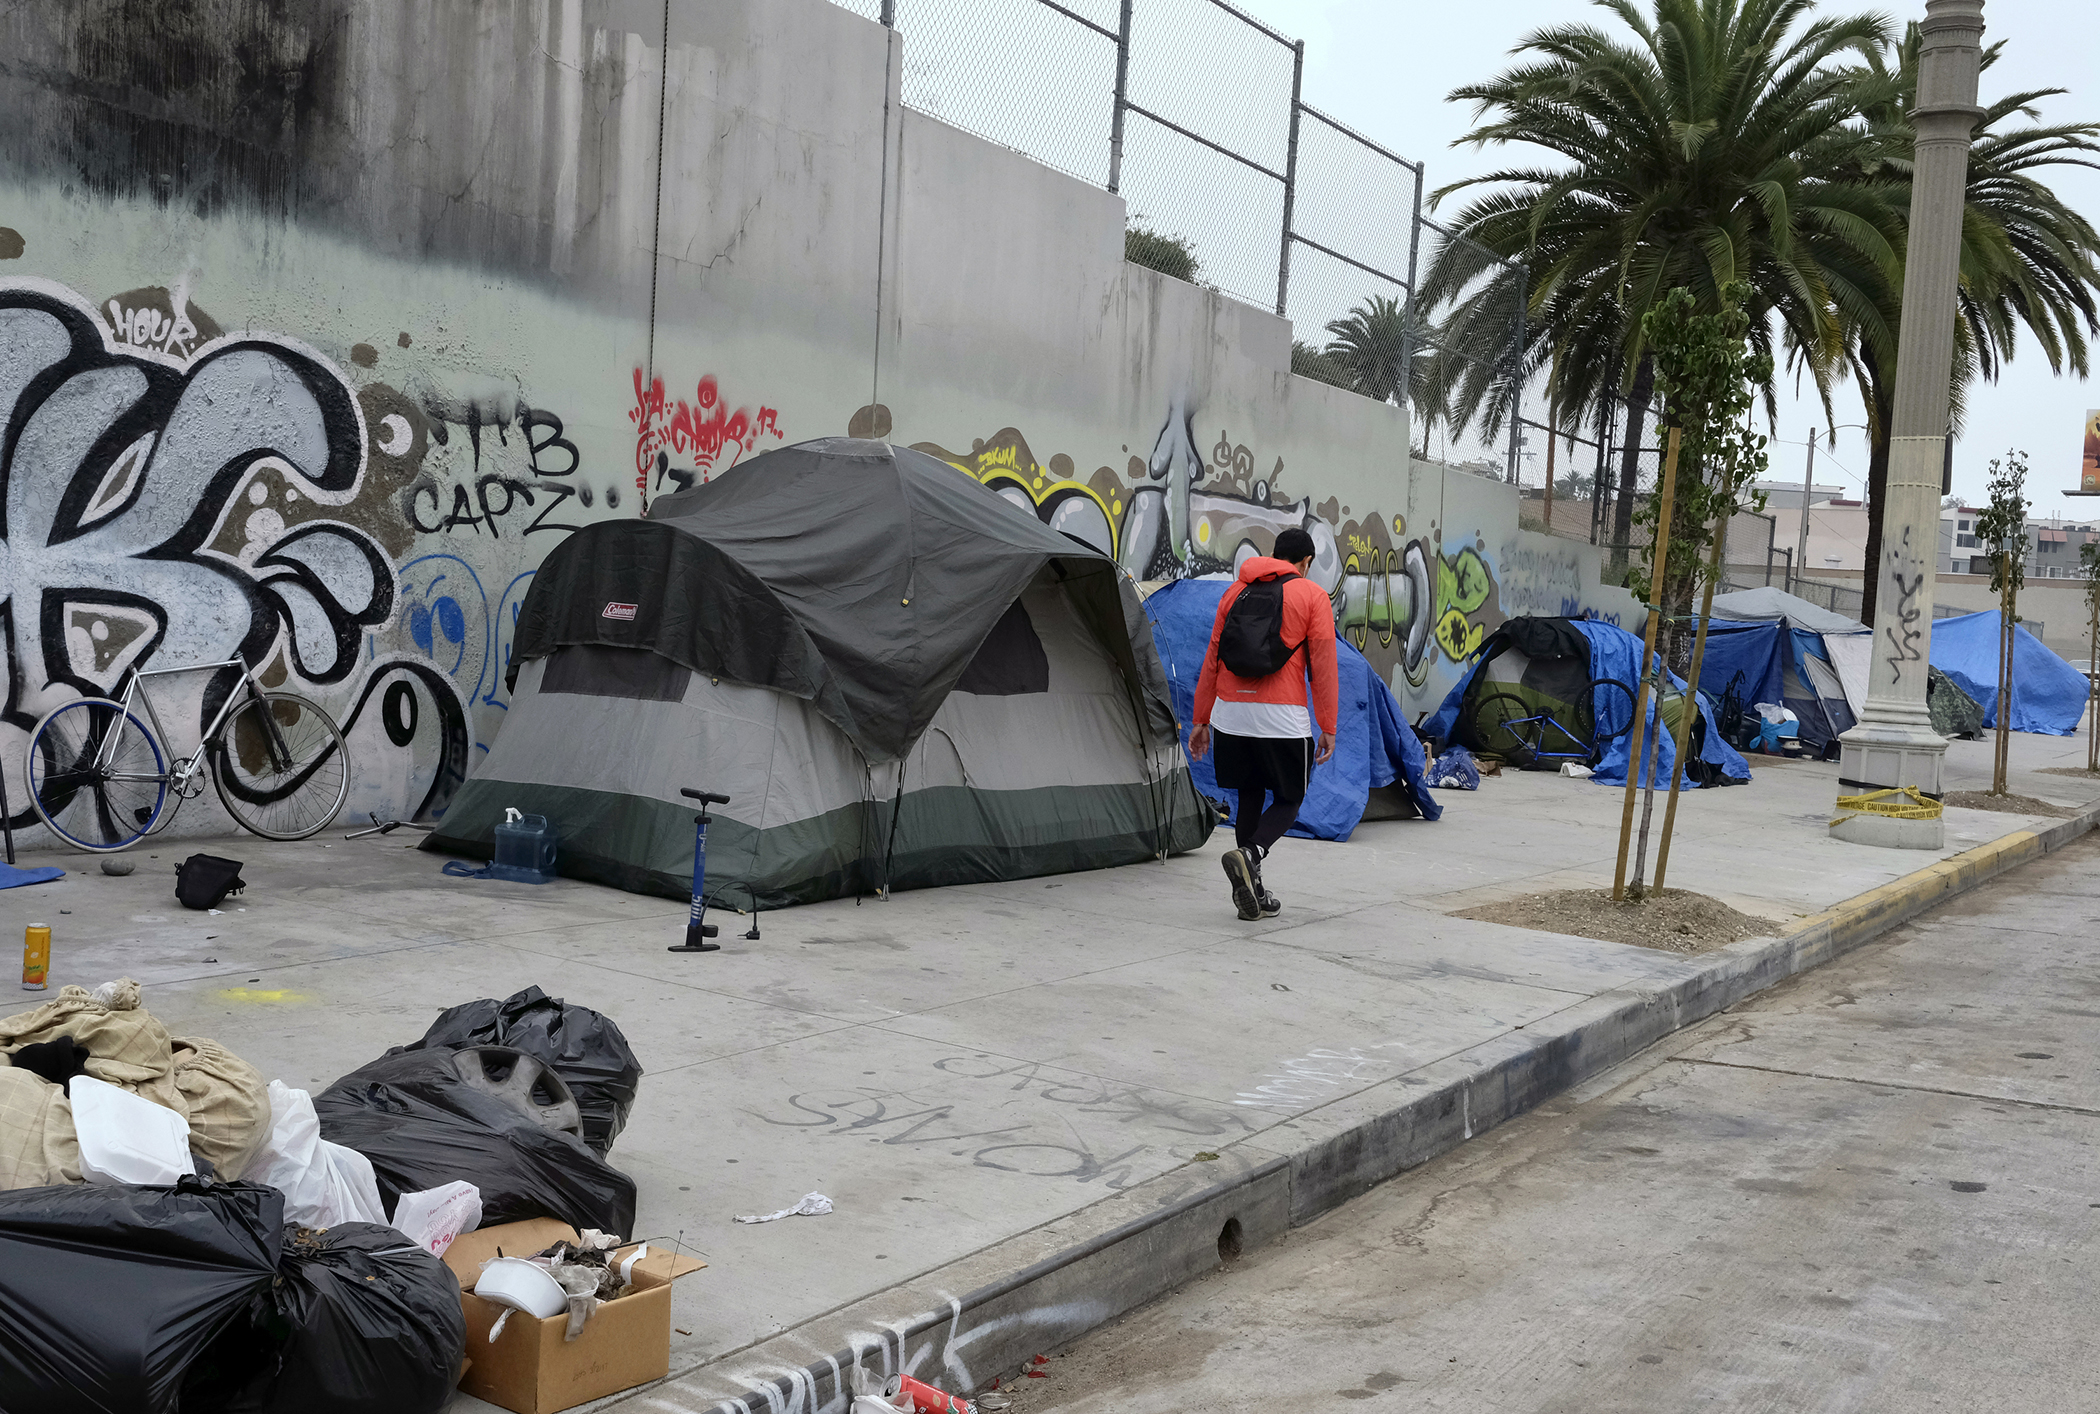tent: (371, 413, 1196, 912), (1130, 559, 1463, 857), (1409, 606, 1761, 816), (1665, 582, 1892, 778), (1917, 600, 2095, 750)
